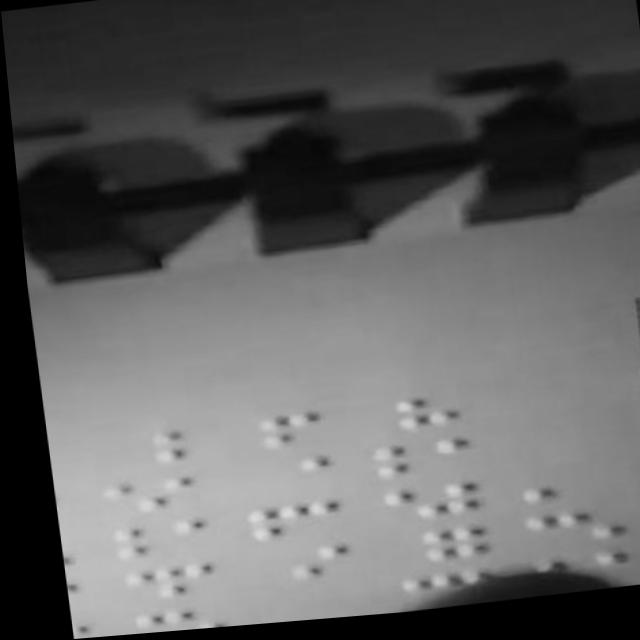braiile: (515, 512, 630, 569), (363, 439, 473, 491), (375, 487, 481, 539), (98, 518, 202, 569), (104, 563, 211, 611), (354, 397, 460, 445), (214, 412, 320, 460), (383, 531, 486, 580), (242, 547, 344, 592), (234, 504, 330, 551), (382, 576, 488, 618), (94, 474, 190, 520), (85, 427, 185, 471), (233, 458, 326, 504), (112, 604, 224, 636), (48, 531, 81, 574), (53, 574, 84, 614), (58, 615, 96, 639)
